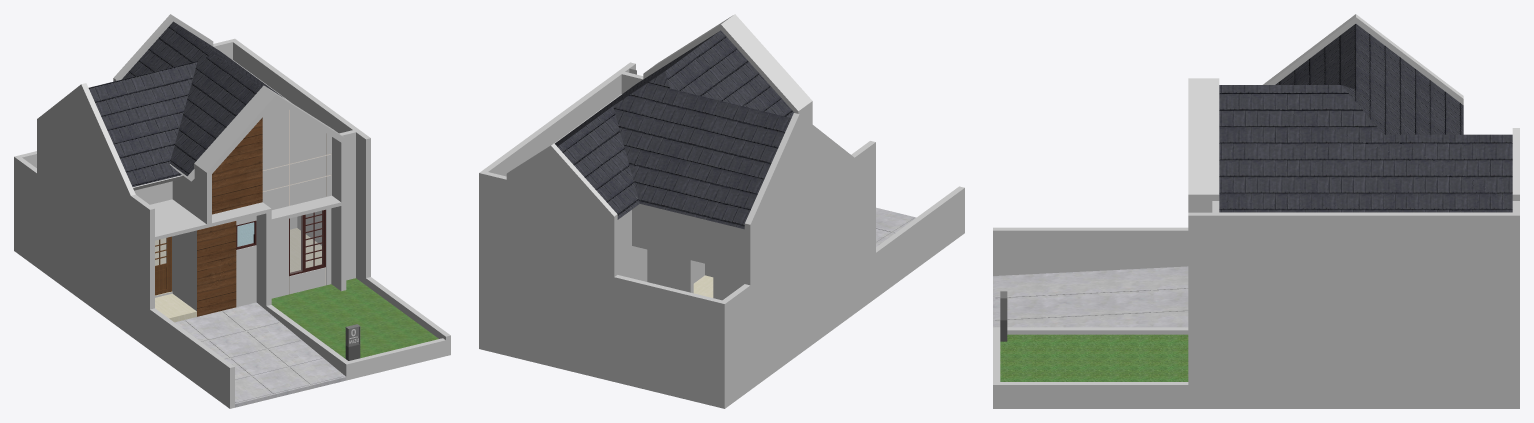
The model's file is mizu-36.glb.
3 renders of one model, left to right at view 1: azimuth 30°, elevation 25°; view 2: azimuth 150°, elevation 25°; view 3: azimuth 270°, elevation 25°, orthographic. The views are drawn at different scales.
Parts seen in each view (by area): view 1: $ColladaAutoName$_0, ID101, ID156, ID259, ID525, ID28, ID300, ID92; view 2: $ColladaAutoName$_0, ID101, ID156; view 3: $ColladaAutoName$_0, ID101, ID156, ID525.
Boxes of the visible parts, x1,y1,x2,y2 form: $ColladaAutoName$_0: [14, 14, 450, 408]; ID101: [88, 21, 283, 186]; ID156: [174, 302, 346, 407]; ID259: [197, 110, 331, 316]; ID525: [271, 278, 438, 358]; ID28: [155, 209, 325, 295]; ID300: [155, 228, 321, 322]; ID92: [155, 210, 322, 274]; $ColladaAutoName$_0: [479, 14, 964, 408]; ID101: [555, 30, 794, 229]; ID156: [876, 207, 916, 246]; $ColladaAutoName$_0: [993, 14, 1519, 408]; ID101: [1219, 24, 1512, 212]; ID156: [993, 266, 1188, 327]; ID525: [1000, 334, 1188, 381].
Size of the model in its own units: 6.5 by 6.32 by 11.
Materials: 14 (8 with a texture image).
